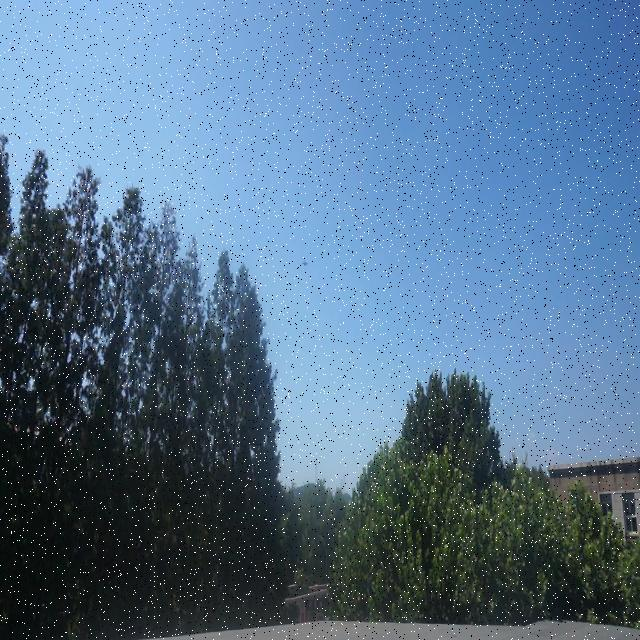UAV: (302, 260, 308, 266)
